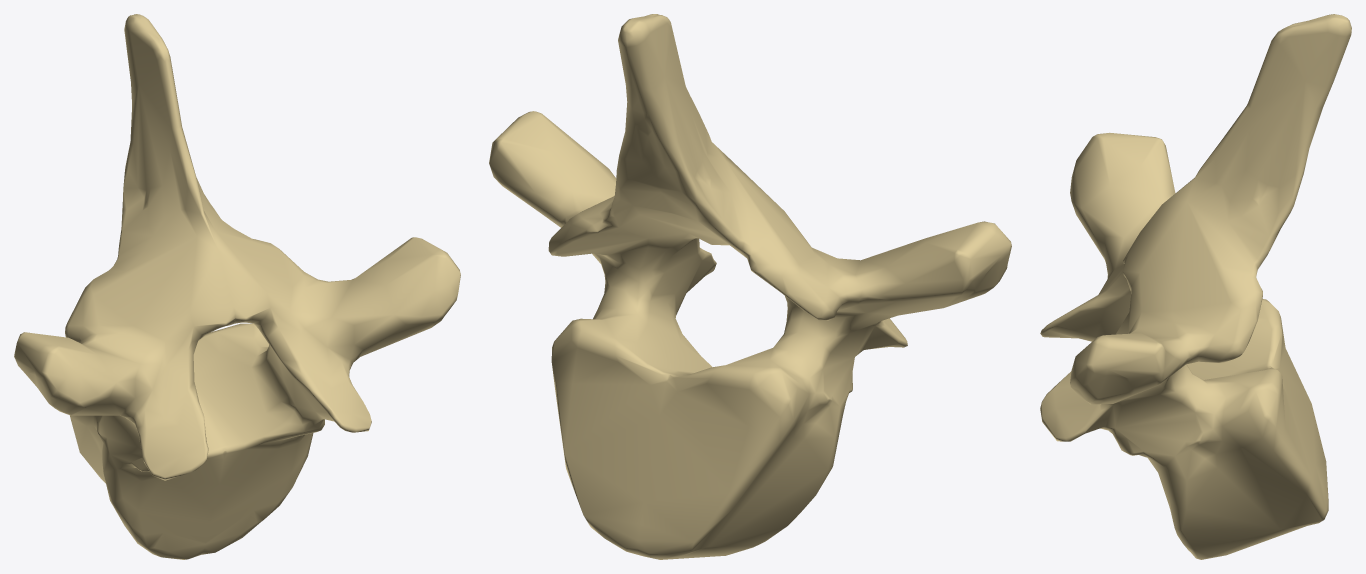
3 renders of one model, left to right at view 1: azimuth 30°, elevation 25°; view 2: azimuth 150°, elevation 25°; view 3: azimuth 270°, elevation 25°, orthographic. The views are drawn at different scales.
Parts seen in each view (by area): view 1: 第三胸椎; view 2: 第三胸椎; view 3: 第三胸椎.
Part boxes in pixels (x1=…): 第三胸椎: x1=14, y1=14, x2=460, y2=559; 第三胸椎: x1=489, y1=14, x2=1011, y2=559; 第三胸椎: x1=1040, y1=14, x2=1351, y2=559.
Bounding box in the file's own units: 0.1014 × 0.1147 × 0.0608.
